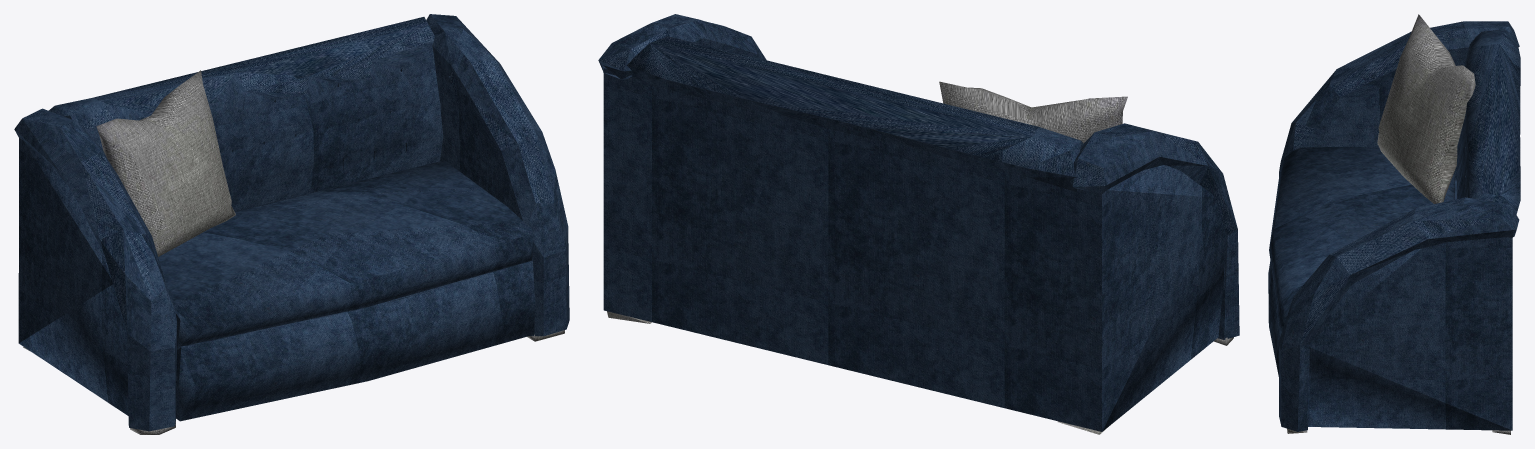
File: round_sofa.dae
The picture shows the model from 3 angles, left to right: view 1: azimuth 30°, elevation 25°; view 2: azimuth 150°, elevation 25°; view 3: azimuth 270°, elevation 25°; orthographic projection. The views are drawn at different scales.
Parts seen in each view (by area): view 1: ROUND SOFA; view 2: ROUND SOFA; view 3: ROUND SOFA.
Boxes of the visible parts, bbox=[...] form: ROUND SOFA: bbox=[14, 14, 569, 434]; ROUND SOFA: bbox=[598, 14, 1239, 434]; ROUND SOFA: bbox=[1268, 14, 1520, 434].
Bounding box in the file's own units: 1.65 × 0.8703 × 0.9104.
2 materials, 2 textured.
